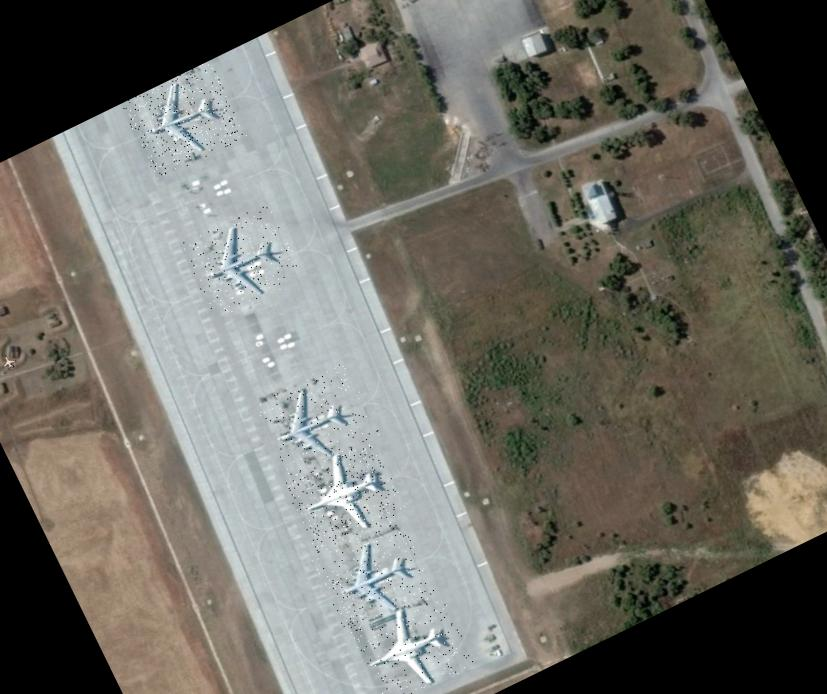A17: (310, 516, 437, 636), (254, 360, 381, 480), (178, 201, 305, 321), (120, 60, 247, 180)
A6: (280, 434, 407, 554), (348, 588, 475, 694)
